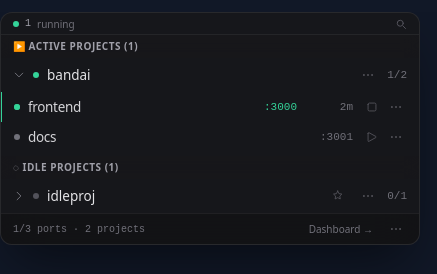
Test: TrayDropdown › filters rows by search query
Expected: the text "frontend" is shown, [28,98,81,116]
In the field with placeholder "Search…": (210, 24) [1,13,419,35], type "docs"
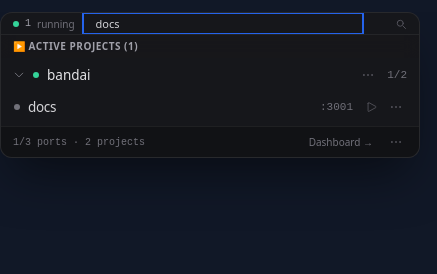
Expected: the text "docs" is shown, [28,98,56,116]
Result: the text "frontend" is gone
